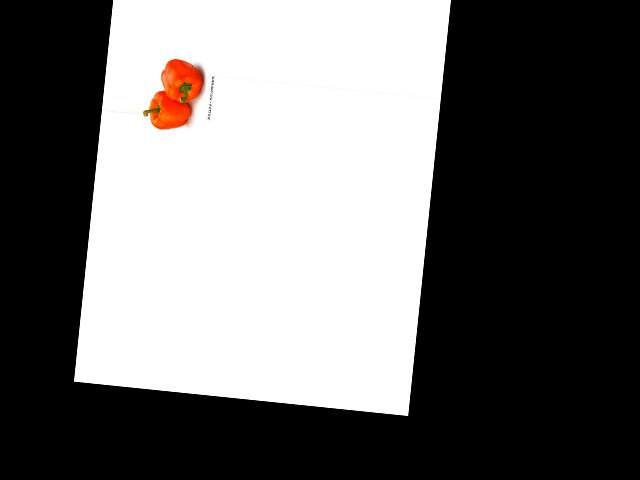bell_pepper: (157, 56, 209, 106)
